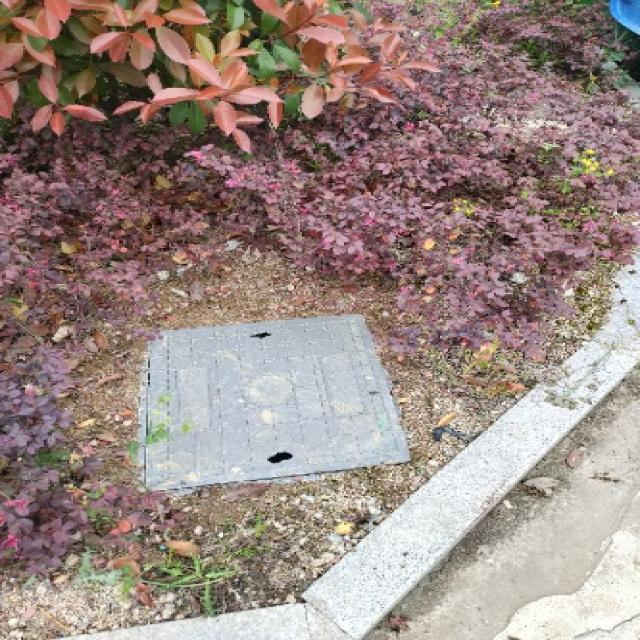Good: (118, 320, 420, 484)
